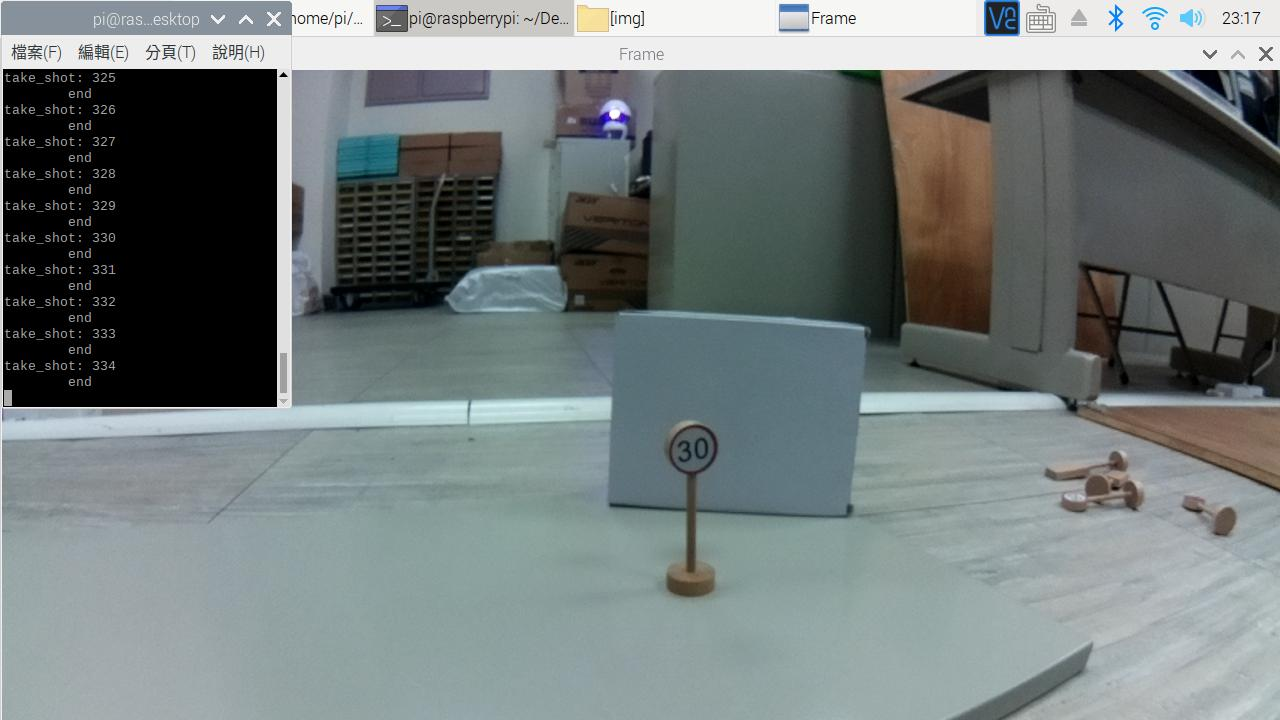Speed30: (655, 409, 727, 490)
